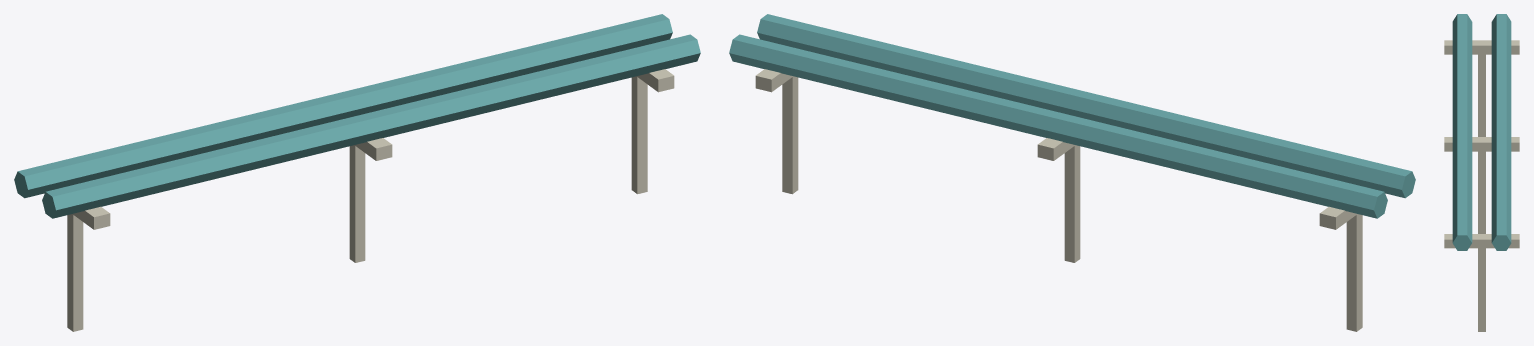
3 renders of one model, left to right at view 1: azimuth 30°, elevation 25°; view 2: azimuth 150°, elevation 25°; view 3: azimuth 270°, elevation 25°, orthographic. The views are drawn at different scales.
Size of the model in its own units: 16 by 3.66 by 2.3.
